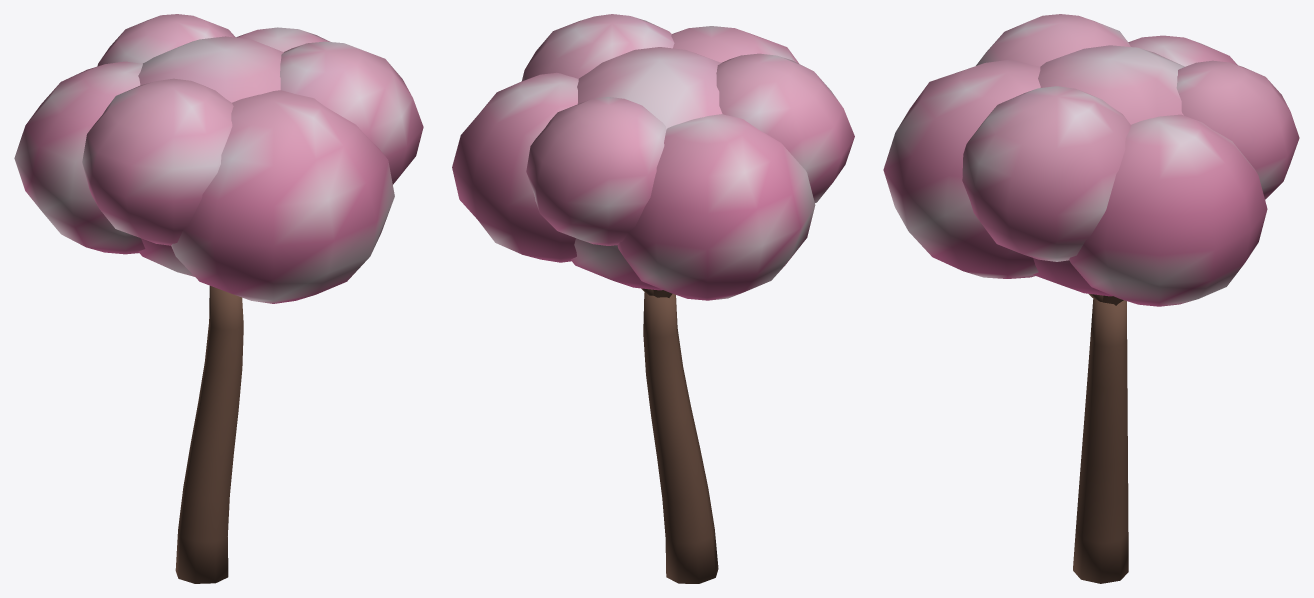
File: arbore_roz.glb
3 renders of one model, left to right at view 1: azimuth 30°, elevation 25°; view 2: azimuth 150°, elevation 25°; view 3: azimuth 270°, elevation 25°, orthographic. The views are drawn at different scales.
Parts seen in each view (by area): view 1: arbore_roz; view 2: arbore_roz; view 3: arbore_roz.
Part boxes in pixels (x1=…): arbore_roz: x1=14, y1=14, x2=423, y2=583; arbore_roz: x1=452, y1=14, x2=854, y2=583; arbore_roz: x1=883, y1=14, x2=1299, y2=583.
Bounding box in the file's own units: 2.14 × 3.12 × 2.23.
